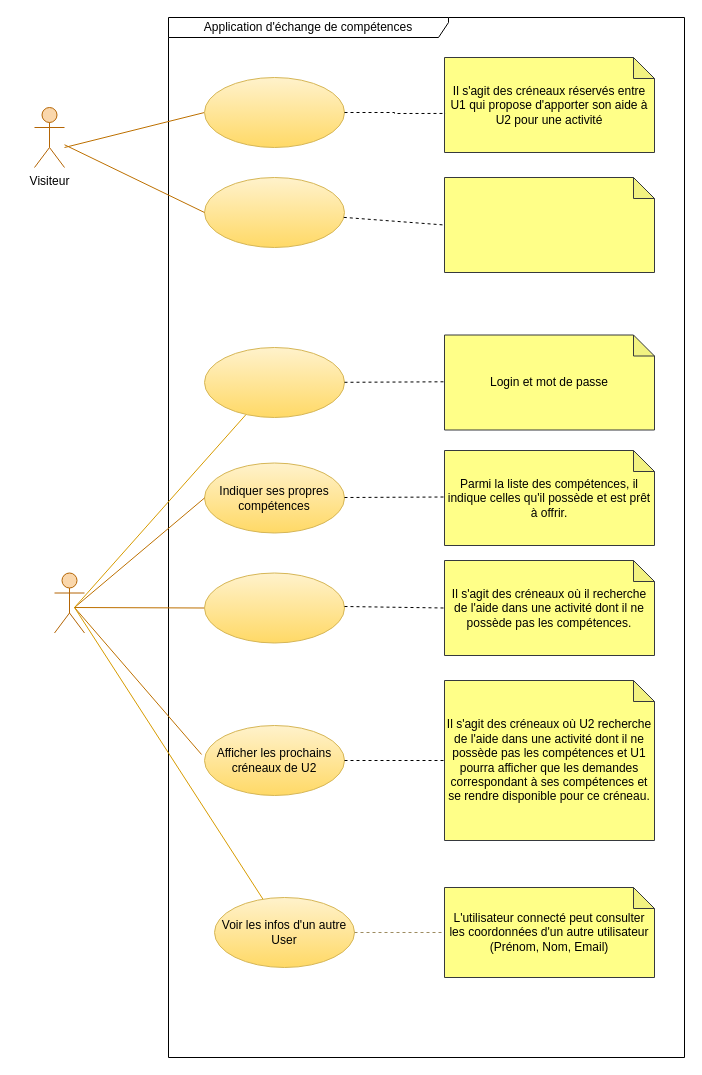
Image size: 702x1075. Some labels were removed from this diagram. The box of each missing label's shape, as (x1, y1, x2, y2) in pixels:
Afficher la liste des compétences: (204, 176, 344, 248)
Afficher les prochains créneaux: (204, 76, 344, 148)
Compétences proposées par l'application à ses utilisateurs d'échanger: (444, 176, 654, 272)
Indiquer les créneaux: (204, 572, 344, 643)
Se connecter: (204, 346, 344, 418)
Utilisateur connecté: (54, 572, 84, 633)
